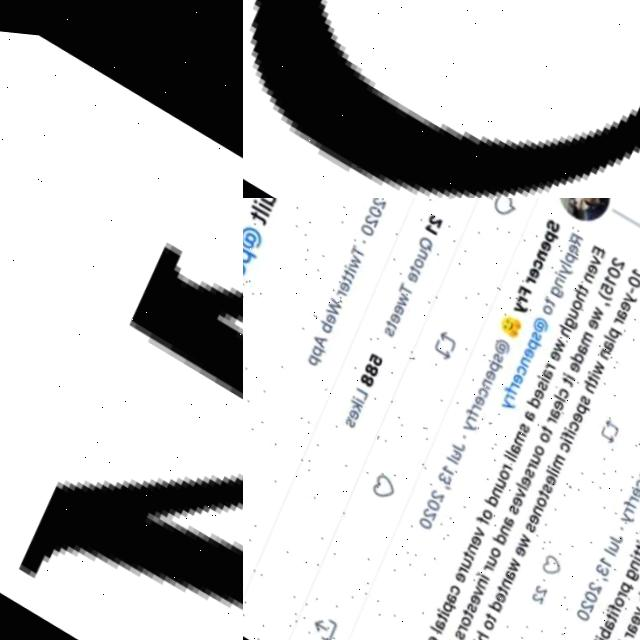0: (560, 594, 579, 612), (620, 259, 637, 276), (599, 251, 617, 267), (569, 576, 587, 592), (354, 214, 370, 229), (413, 488, 429, 503), (405, 507, 421, 522), (362, 198, 378, 210)
1: (417, 212, 434, 226), (430, 454, 445, 466), (597, 260, 612, 272), (587, 543, 602, 555), (625, 253, 639, 265)
2: (408, 496, 427, 513), (420, 203, 438, 220), (357, 205, 374, 221), (417, 478, 434, 494), (604, 242, 621, 258), (575, 567, 591, 582), (566, 586, 582, 600), (520, 572, 534, 586), (517, 580, 531, 593)
3: (581, 549, 599, 566), (425, 460, 442, 476)
5: (358, 343, 376, 360), (592, 267, 610, 283), (628, 562, 640, 577)
8: (349, 363, 368, 381), (354, 353, 372, 371)
M: (0, 198, 243, 640)
Q: (243, 0, 640, 198)
Z: (0, 0, 243, 198)
